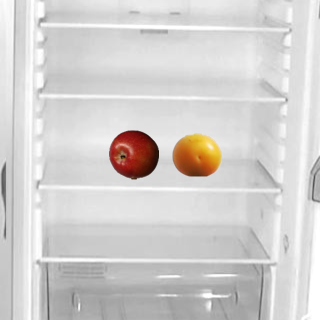Apple Braeburn: (108, 129, 158, 179)
Cherry Wax Yellow: (171, 129, 221, 179)
